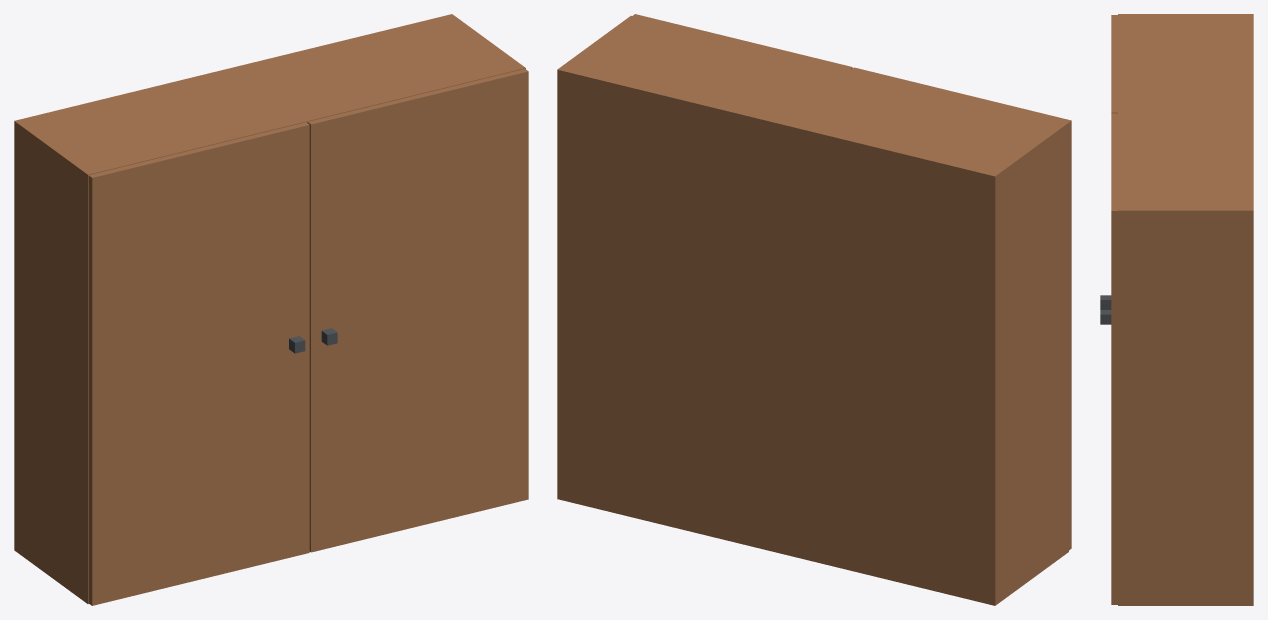
3 views of the same model, side by side, from view 1: azimuth 30°, elevation 25°; view 2: azimuth 150°, elevation 25°; view 3: azimuth 270°, elevation 25° (orthographic). The views are drawn at different scales.
Parts seen in each view (by area): view 1: panel_left, panel_right, side_left, top; view 2: back, side_left, top, side_right, bottom, panel_left, panel_right; view 3: side_right, top, panel_right, panel_left, side_left.
Boxes of the visible parts, x1,y1,x2,y2 form: panel_left: (88, 122, 309, 605); panel_right: (307, 69, 528, 552); side_left: (14, 119, 93, 603); top: (21, 15, 519, 173); back: (563, 77, 988, 597); side_left: (989, 121, 1068, 605); top: (563, 17, 1062, 181); side_right: (557, 16, 636, 500); bottom: (563, 494, 988, 604); panel_left: (851, 67, 1071, 550); panel_right: (633, 14, 852, 69); side_right: (1118, 208, 1253, 605); top: (1118, 16, 1253, 207); panel_right: (1111, 113, 1117, 604); panel_left: (1111, 15, 1117, 113); side_left: (1118, 14, 1253, 16).
Bounding box in the file's own units: 1.27 × 1.19 × 0.418.
